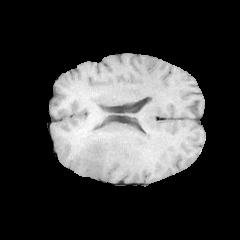glioma: (62, 97, 166, 178)
